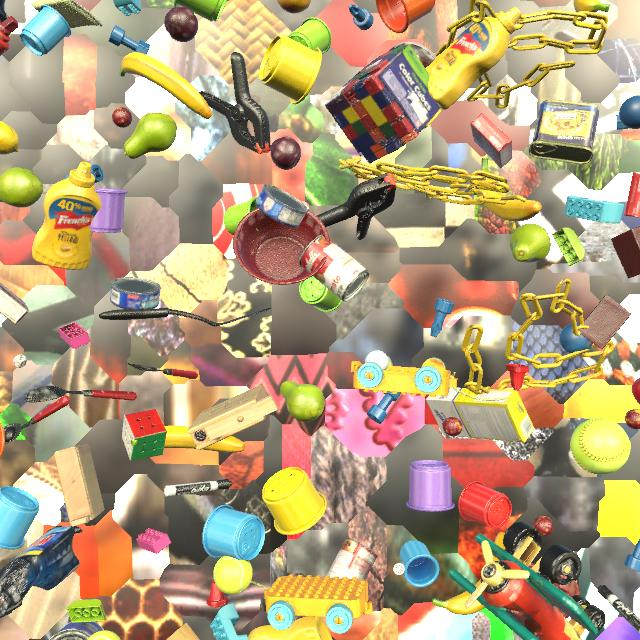ycb_002_master_chef_can: (49, 622, 104, 640)
ycb_004_sugar_box: (426, 388, 534, 443)
ycb_005_tomato_soup_can: (299, 234, 369, 302), (326, 538, 378, 580), (513, 632, 523, 640)
ycb_006_mustard_bottle: (425, 7, 522, 110), (32, 162, 102, 270), (248, 616, 332, 640)
ycb_007_tuna_fish_can: (255, 184, 308, 228), (110, 277, 161, 311)
ycb_008_pudding_box: (0, 283, 29, 324)
ycb_009_gelatin_box: (470, 113, 512, 168), (625, 172, 640, 218)
ycb_010_potted_meat_can: (529, 100, 600, 164)
ycb_011_banana: (119, 52, 212, 119), (432, 532, 505, 615), (477, 157, 542, 222), (131, 426, 245, 453), (574, 0, 610, 13)
ycb_013_apple: (631, 378, 640, 404)
ycb_014_lemon: (0, 121, 19, 155)
ycb_015_peach: (277, 0, 311, 13)
ycb_016_pear: (124, 113, 177, 159), (280, 381, 325, 422), (0, 167, 43, 208), (510, 223, 551, 263)
ycb_018_plum: (164, 6, 198, 42), (270, 137, 301, 170)
